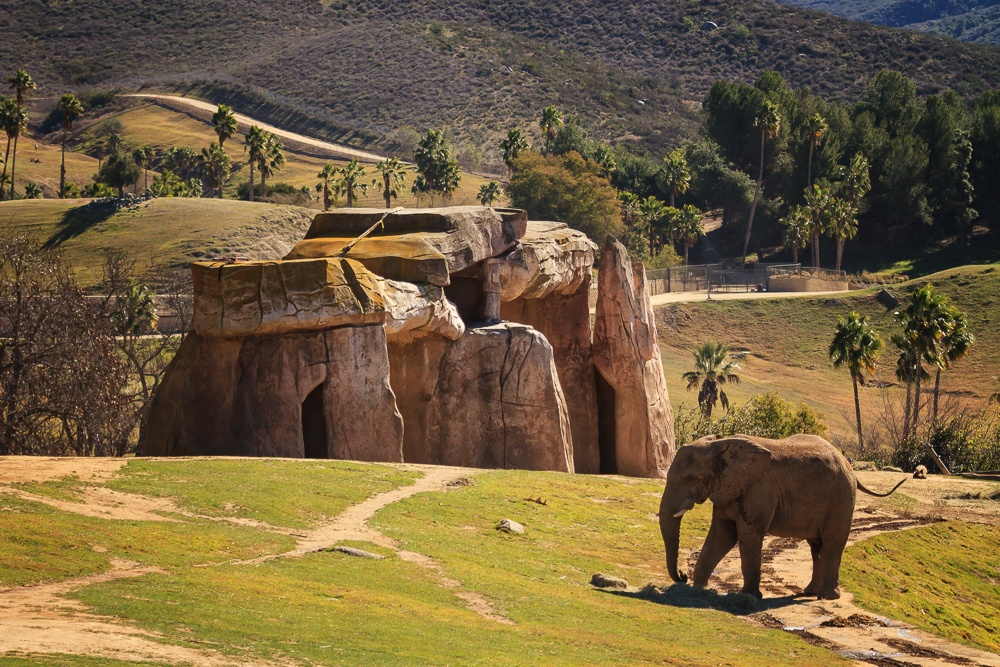elephant: (655, 423, 864, 603)
